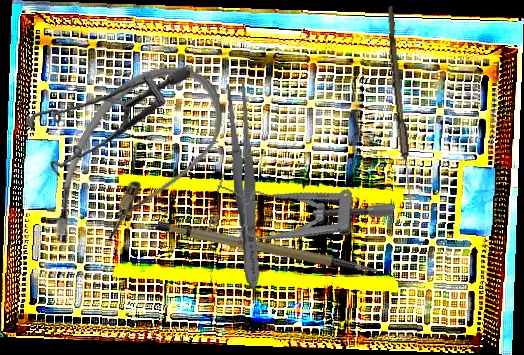Cannula: (28, 38, 242, 286)
Dressing Forceps: (223, 81, 266, 290)
Scalpel Handle: (154, 191, 382, 310)
Speculum: (19, 49, 192, 189), (205, 156, 397, 279)
Surgical Spoon: (382, 6, 418, 210)
